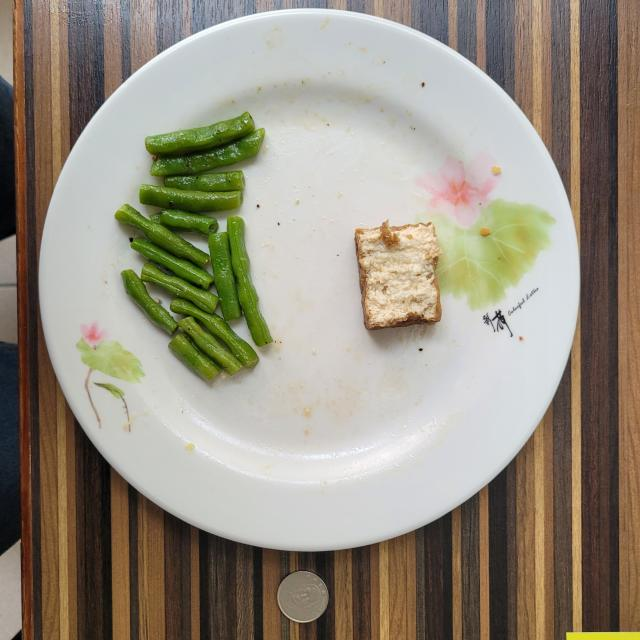coin: (278, 571, 329, 622)
egg tofu: (355, 221, 441, 330)
